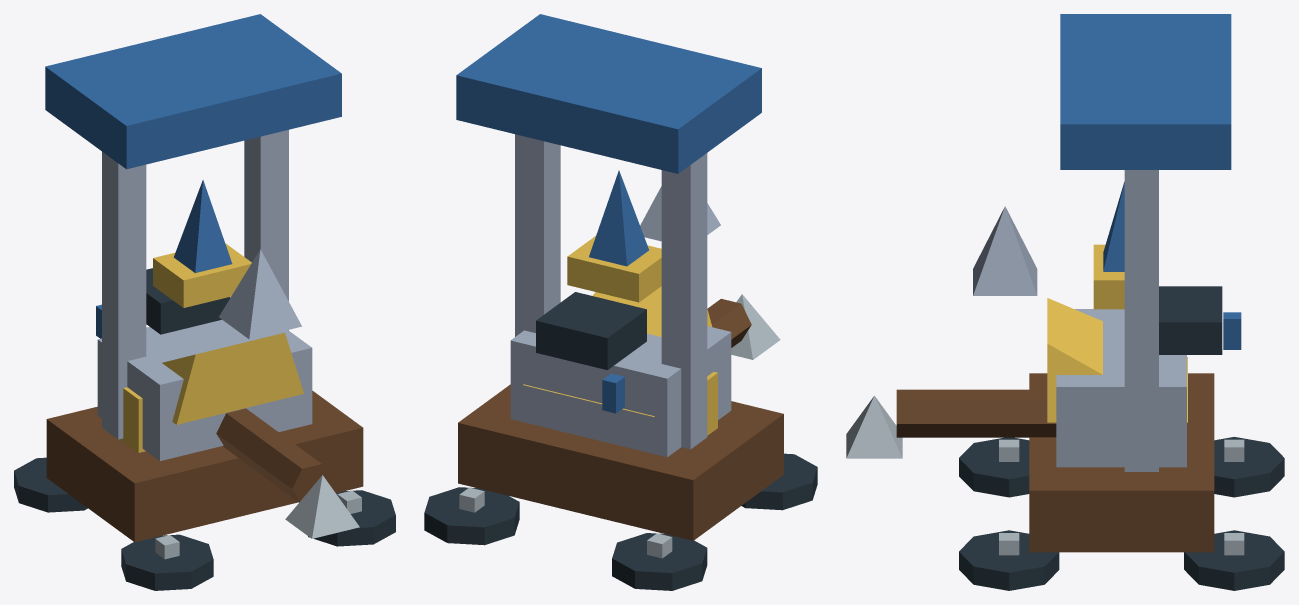
File: siege-tower.obj
The picture shows the model from 3 angles, left to right: view 1: azimuth 30°, elevation 25°; view 2: azimuth 150°, elevation 25°; view 3: azimuth 270°, elevation 25°; orthographic projection. The views are drawn at different scales.
Parts seen in each view (by area): view 1: siege; view 2: siege; view 3: siege.
Boxes of the visible parts, x1,y1,x2,y2 form: siege: (14,14,395,590); siege: (424,14,817,590); siege: (846,14,1284,590).
Size of the model in its own units: 1.6 by 2.49 by 2.18.
